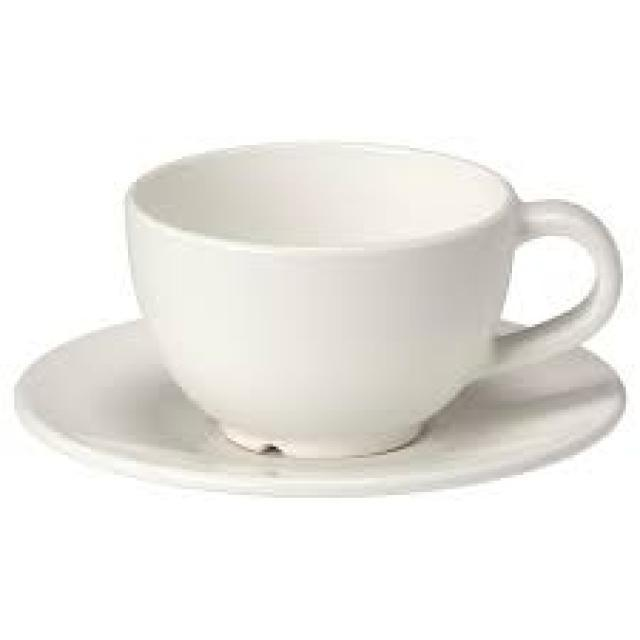taza: (111, 132, 628, 470)
